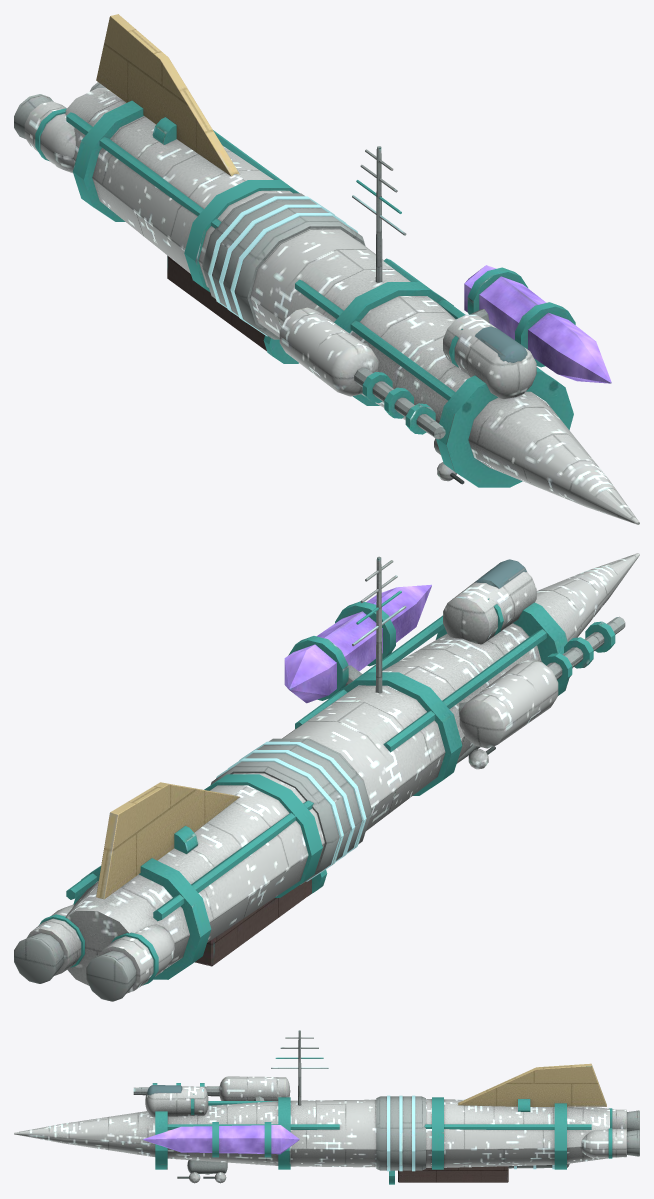
The model's file is ilk_frigate.glb.
3 views of the same model, one above another, from view 1: azimuth 30°, elevation 25°; view 2: azimuth 150°, elevation 25°; view 3: azimuth 270°, elevation 25° (orthographic). The views are drawn at different scales.
Visible parts, largest first — view 1: HULL, SYS_REACTOR, SYS_WPN1, SYS_WPN2, SYS_BRIDGE, SYS_DRIVE, SYS_BUS_F, SYS_BUS_A, SYS_SENSORS; view 2: HULL, SYS_REACTOR, SYS_WPN1, SYS_DRIVE, SYS_WPN2, SYS_BRIDGE, SYS_BUS_F, SYS_BUS_A, SYS_SENSORS; view 3: HULL, SYS_REACTOR, SYS_WPN1, SYS_DRIVE, SYS_WPN2, SYS_BRIDGE, SYS_BUS_A, SYS_PD, SYS_BUS_F, SYS_SENSORS.
Boxes of the visible parts, box(x1,y1,x2,y2) form: HULL: box(65, 14, 639, 524); SYS_REACTOR: box(202, 193, 365, 339); SYS_WPN1: box(464, 265, 611, 383); SYS_WPN2: box(279, 307, 445, 439); SYS_BRIDGE: box(443, 314, 536, 398); SYS_DRIVE: box(14, 82, 105, 173); SYS_BUS_F: box(295, 258, 555, 410); SYS_BUS_A: box(66, 112, 291, 228); SYS_SENSORS: box(352, 146, 406, 282); HULL: box(65, 553, 639, 985); SYS_REACTOR: box(210, 738, 371, 884); SYS_WPN1: box(284, 584, 431, 703); SYS_DRIVE: box(14, 904, 174, 1001); SYS_WPN2: box(458, 616, 625, 748); SYS_BRIDGE: box(443, 559, 536, 644); SYS_BUS_F: box(295, 615, 546, 752); SYS_BUS_A: box(66, 779, 313, 921); SYS_SENSORS: box(352, 556, 406, 693); HULL: box(14, 1063, 609, 1184); SYS_REACTOR: box(376, 1095, 425, 1171); SYS_WPN1: box(143, 1122, 299, 1157); SYS_DRIVE: box(581, 1108, 639, 1158); SYS_WPN2: box(133, 1076, 290, 1100); SYS_BRIDGE: box(145, 1085, 208, 1117); SYS_BUS_A: box(424, 1124, 591, 1129); SYS_PD: box(177, 1160, 227, 1183); SYS_BUS_F: box(167, 1101, 339, 1129); SYS_SENSORS: box(271, 1030, 328, 1105).
Size of the model in its own units: 7.13 by 8.17 by 30.48.
1 material, 1 textured.
